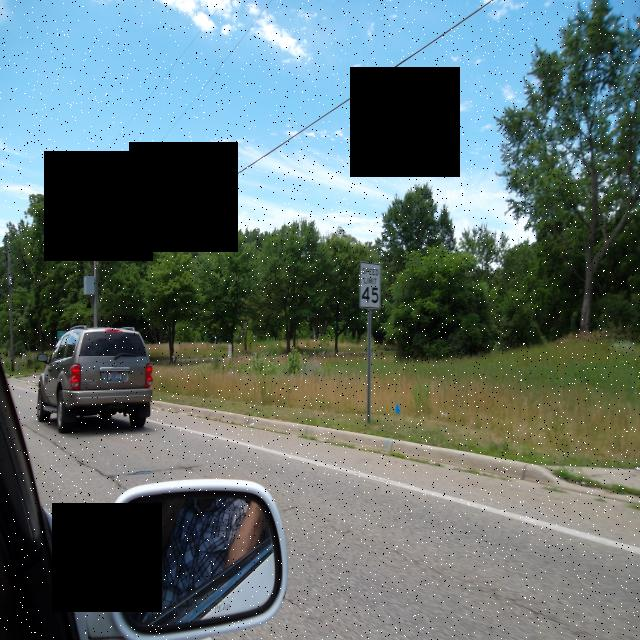regulatory: (359, 261, 381, 310)
